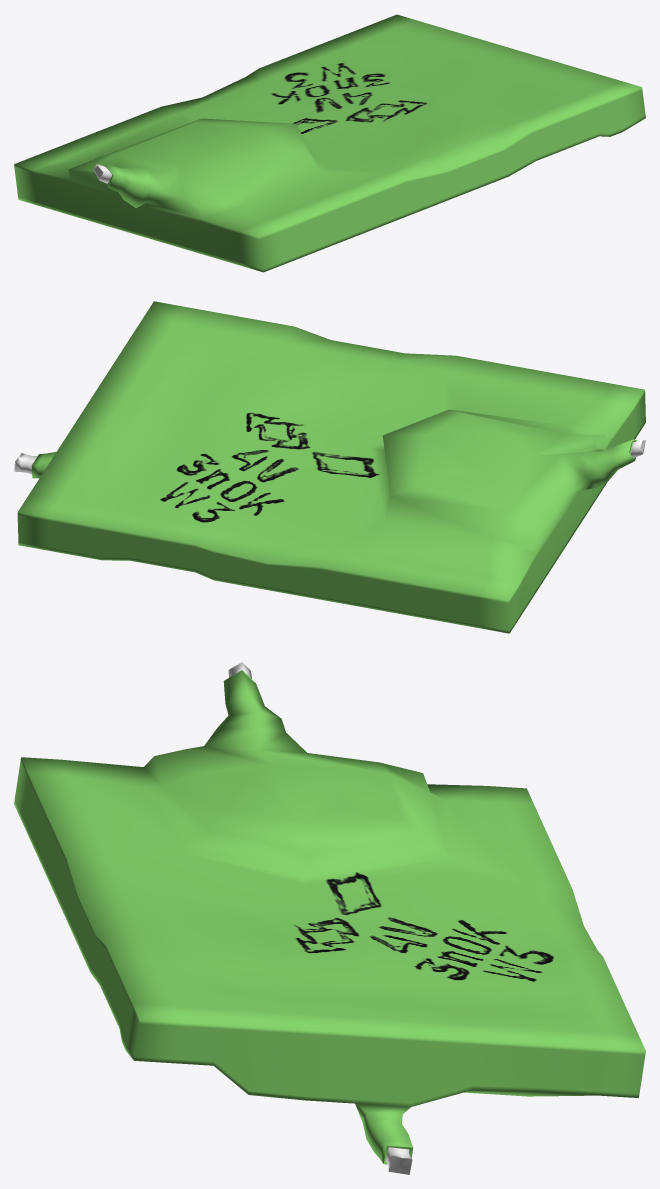
3 views of the same model, one above another, from view 1: azimuth 30°, elevation 25°; view 2: azimuth 150°, elevation 25°; view 3: azimuth 270°, elevation 25° (orthographic). The views are drawn at different scales.
Parts seen in each view (by area): view 1: Cube; view 2: Cube; view 3: Cube.
Boxes of the visible parts, x1,y1,x2,y2 form: Cube: [14, 14, 645, 272]; Cube: [14, 301, 645, 633]; Cube: [14, 662, 645, 1174].
Size of the model in its own units: 3.52 by 0.7389 by 2.64.
2 materials, 1 textured.
